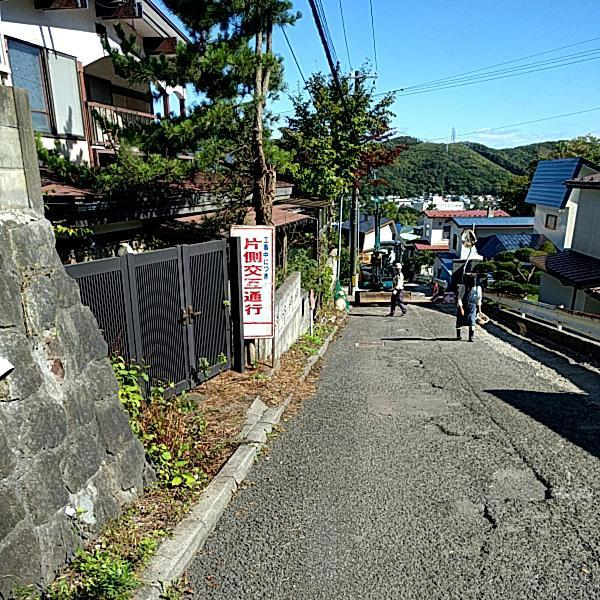D40: (434, 484, 503, 542), (478, 459, 557, 509), (417, 415, 486, 447)
